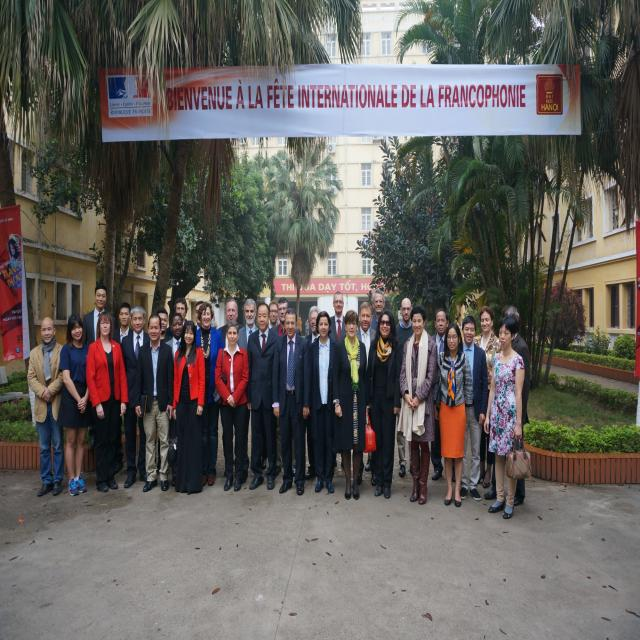body: (483, 304, 531, 507), (331, 308, 377, 502), (483, 314, 526, 520), (431, 320, 475, 509), (85, 309, 129, 493), (270, 306, 312, 496), (399, 304, 438, 506), (55, 312, 97, 498), (364, 307, 403, 500), (27, 315, 68, 498), (134, 313, 175, 493), (246, 301, 282, 491), (306, 308, 341, 494), (213, 318, 249, 494), (171, 319, 206, 496), (472, 305, 503, 489), (120, 305, 151, 488), (270, 296, 301, 477), (459, 315, 489, 502), (196, 301, 224, 487), (430, 307, 457, 483), (355, 300, 378, 486), (195, 300, 220, 464), (165, 312, 188, 487), (238, 298, 259, 476), (395, 297, 415, 478), (328, 291, 346, 468), (304, 305, 321, 481), (80, 282, 119, 351), (217, 298, 244, 349), (112, 302, 134, 348), (166, 296, 190, 338), (370, 288, 386, 332), (156, 308, 173, 344), (268, 302, 280, 330), (304, 319, 310, 338), (298, 316, 302, 336)
